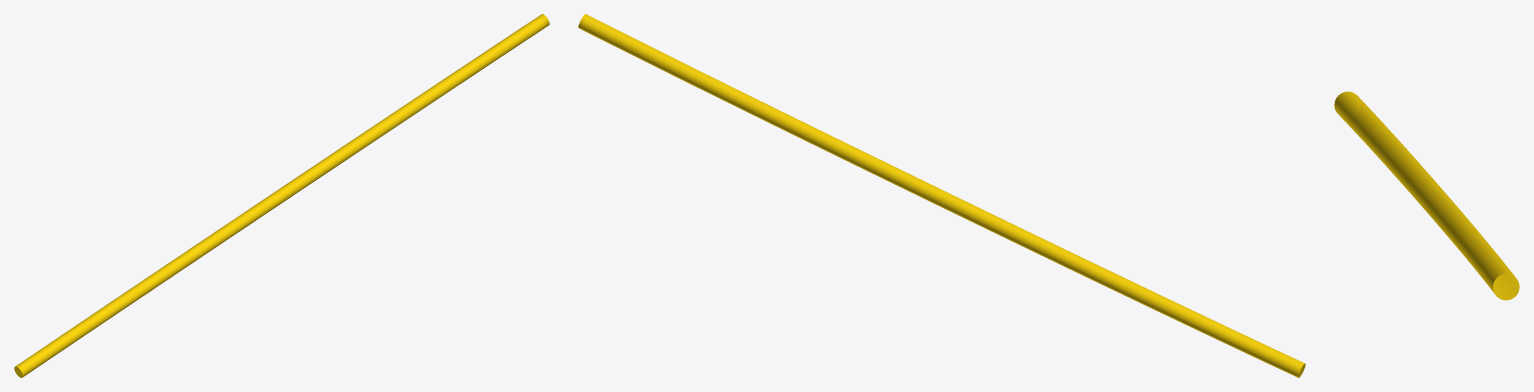
File: Event_421115418_track_36.fbx
3 views of the same model, side by side, from view 1: azimuth 30°, elevation 25°; view 2: azimuth 150°, elevation 25°; view 3: azimuth 270°, elevation 25° (orthographic). The views are drawn at different scales.
Parts seen in each view (by area): view 1: Model; view 2: Model; view 3: Model.
Part boxes in pixels (x1,y1,x2,y2): Model: [14, 14, 549, 377]; Model: [578, 14, 1305, 377]; Model: [1334, 91, 1519, 300].
Size of the model in its own units: 1.96 by 0.6468 by 0.2759.
